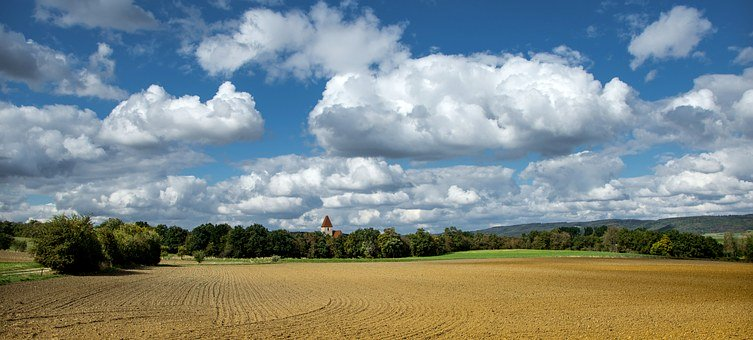forest: (43, 222, 753, 260)
ground: (15, 267, 747, 337)
sky: (5, 2, 753, 225)
